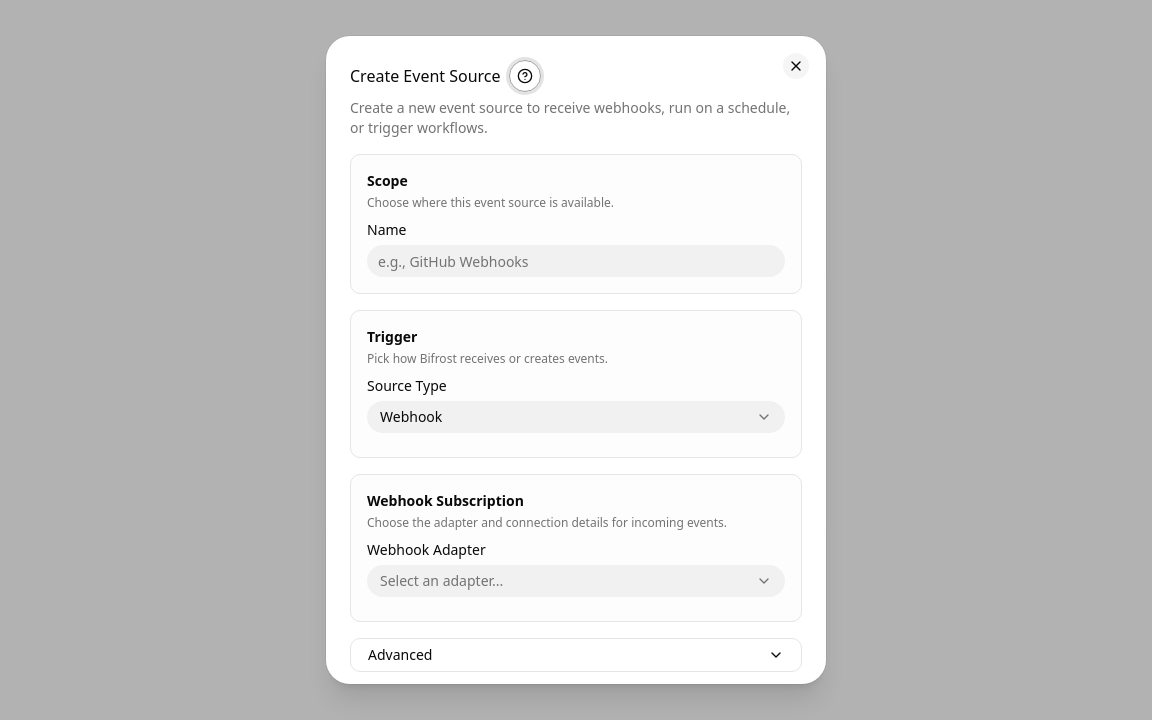
CreateEventSourceDialog — webhook rate-limit section › keeps rate-limit inputs in Advanced for webhook sources
Expected: the field labelled "max events" is not shown
Click the button "Advanced".
click(400, 654)  # box [351,639,801,671]
(page scrolled)
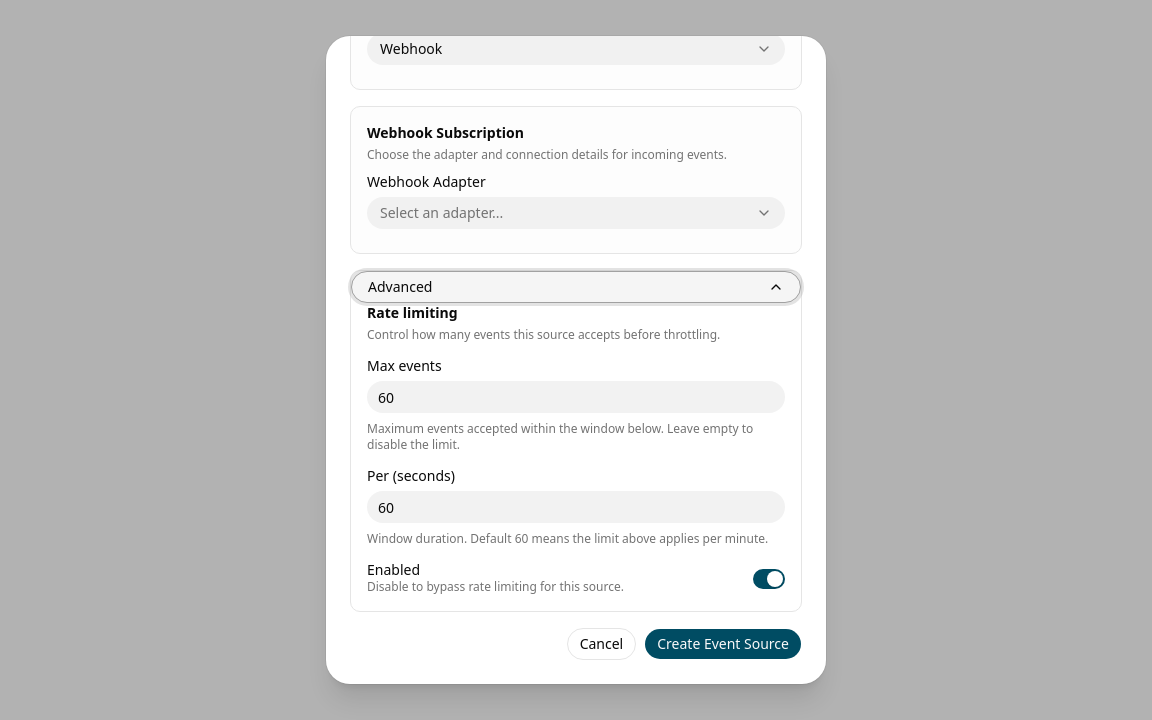
Result: the number field labelled "Max events" is shown at [367,381,785,413]
Result: the number field labelled "Per (seconds)" is shown at [367,491,785,523]
Result: the switch named "enabled" is shown at [753,569,785,589]
